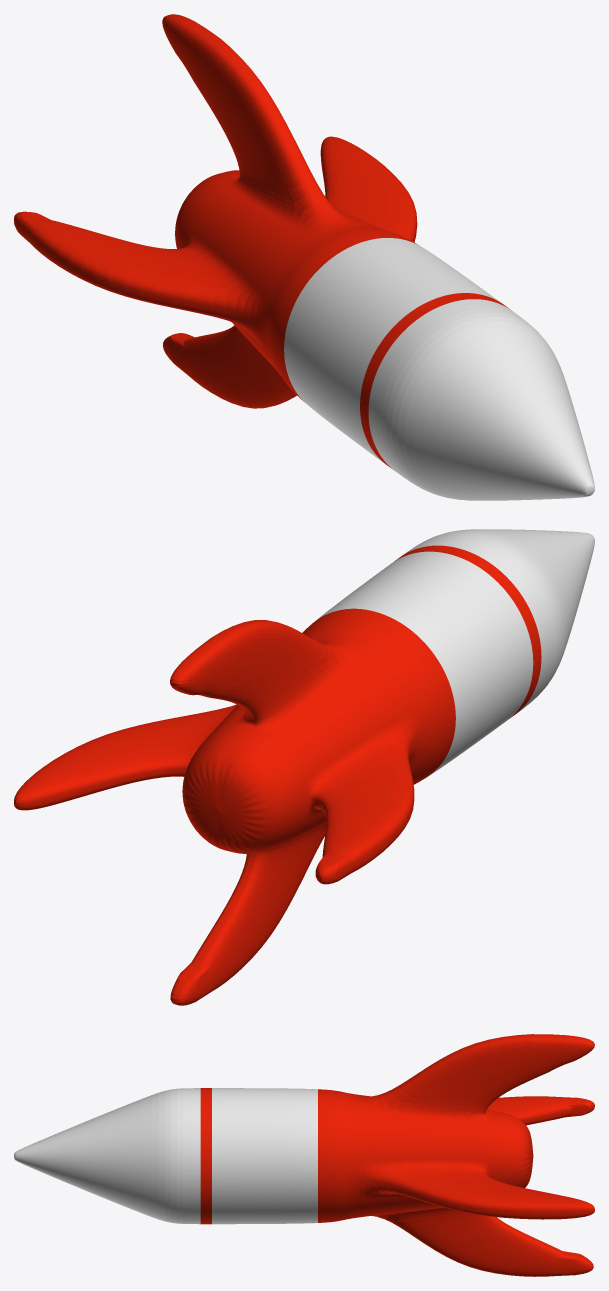
File: Missile.fbx
3 views of the same model, one above another, from view 1: azimuth 30°, elevation 25°; view 2: azimuth 150°, elevation 25°; view 3: azimuth 270°, elevation 25° (orthographic). The views are drawn at different scales.
Parts seen in each view (by area): view 1: Cylinder; view 2: Cylinder; view 3: Cylinder.
Part boxes in pixels (x1,y1,x2,y2): Cylinder: (14, 14, 594, 500); Cylinder: (14, 529, 594, 1005); Cylinder: (14, 1034, 594, 1276).
Bounding box in the file's own units: 261 × 119 × 119.
